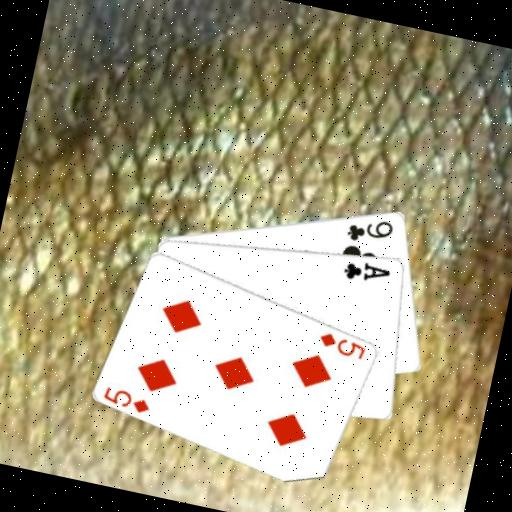5D: (99, 382, 155, 416), (314, 327, 369, 361)
9C: (342, 209, 396, 250)
AC: (340, 254, 394, 288)
